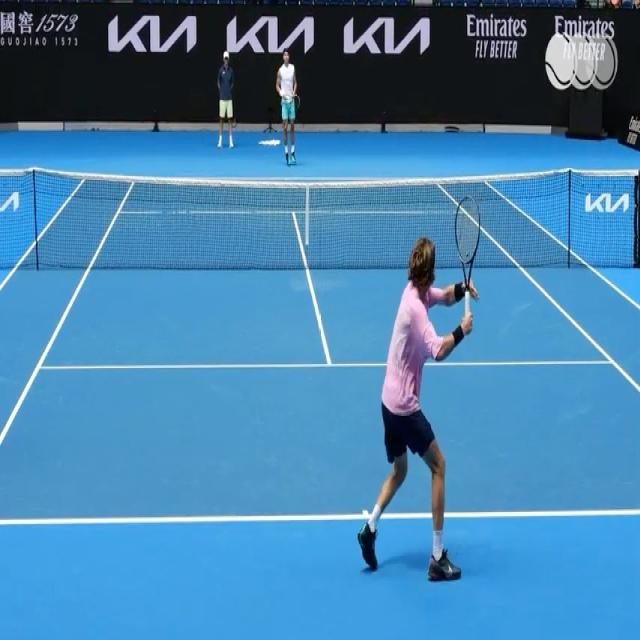forehand-ready: (356, 196, 481, 587)
